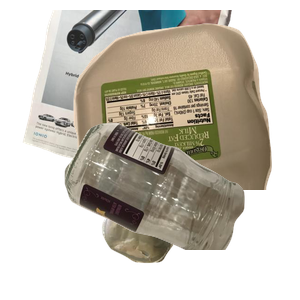glass: (62, 120, 300, 300)
paper: (20, 10, 244, 190)
plastic: (71, 21, 300, 201)
trash: (99, 155, 268, 300)
